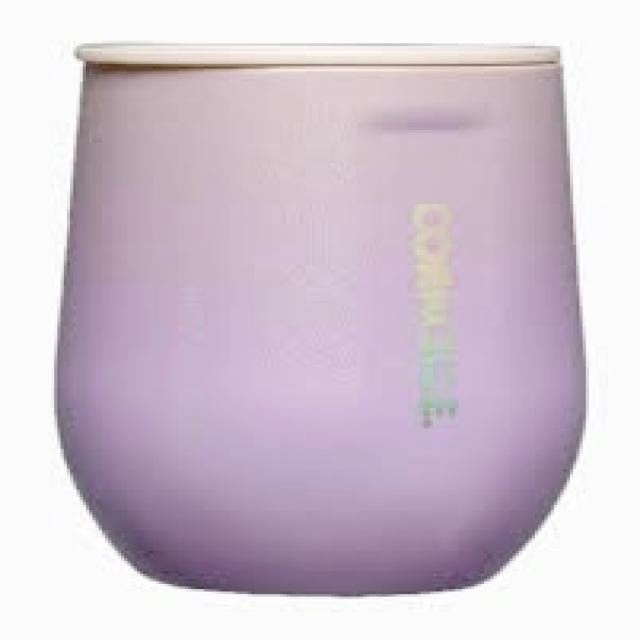bottle: (50, 39, 592, 599)
